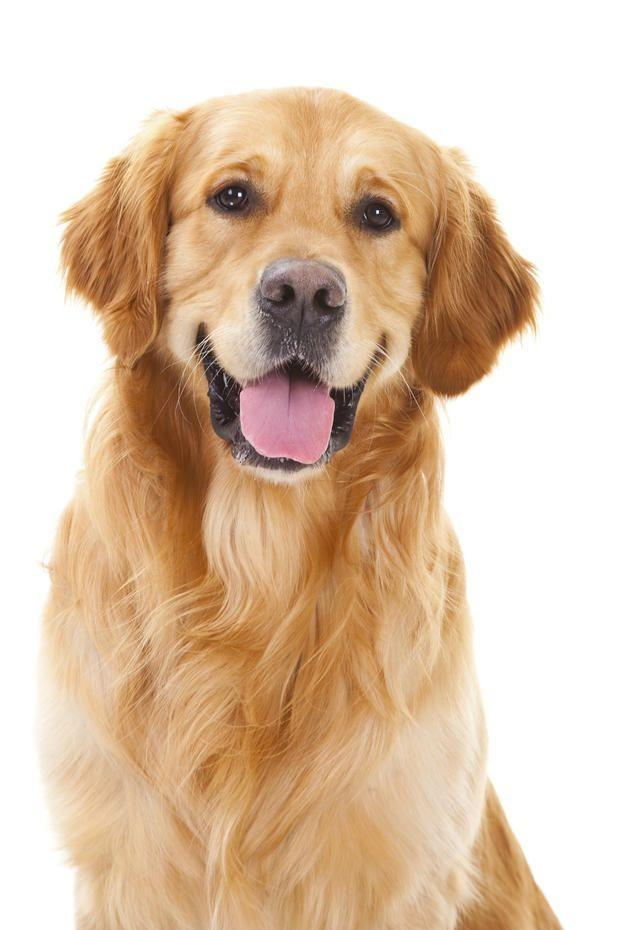adult_dog: (38, 79, 564, 930)
